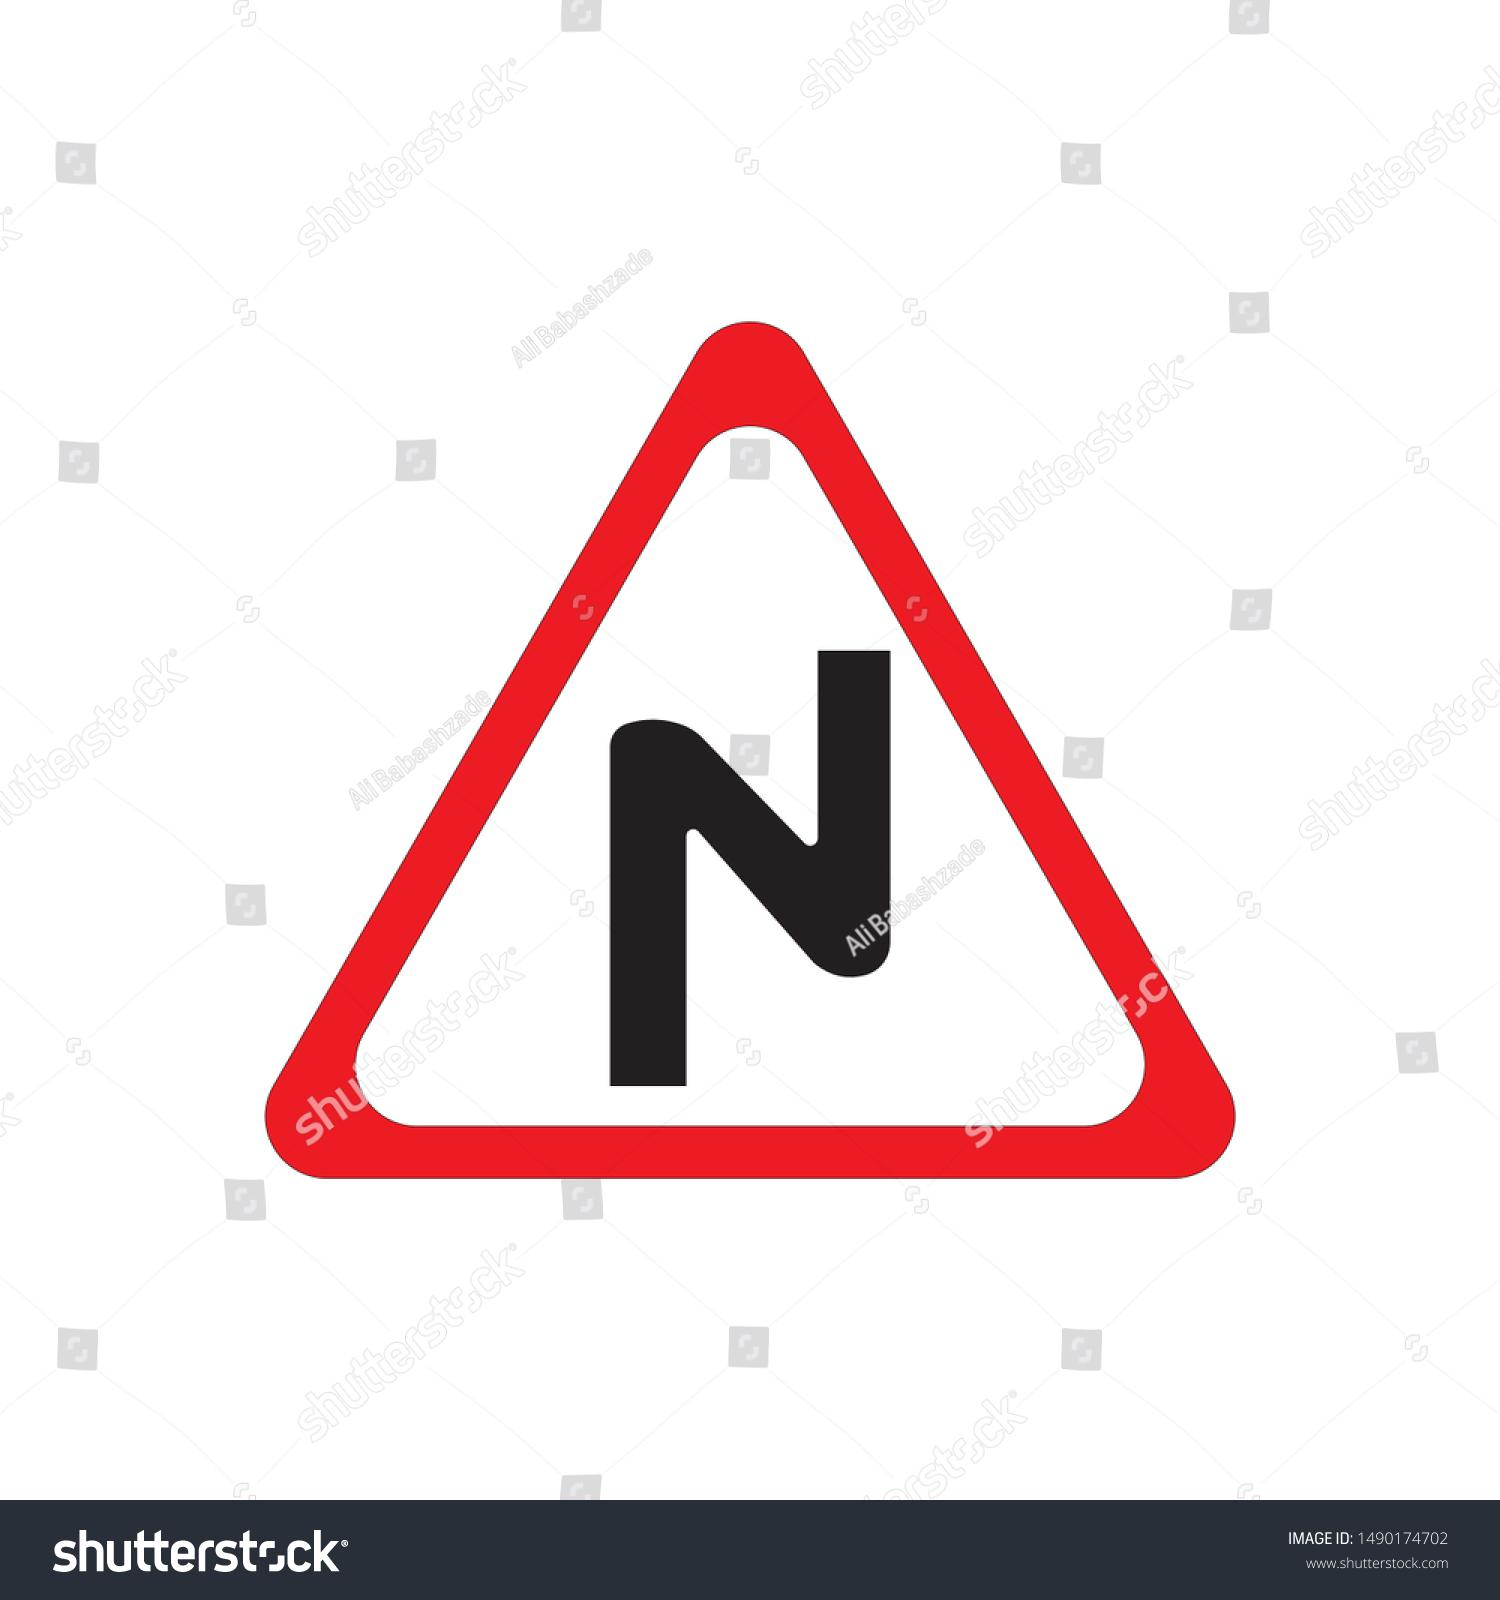Right Reverse Bend: (197, 361, 1274, 1173)
